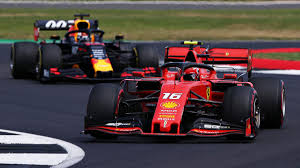FormulaOneCar: (82, 38, 288, 145), (9, 11, 163, 84)
